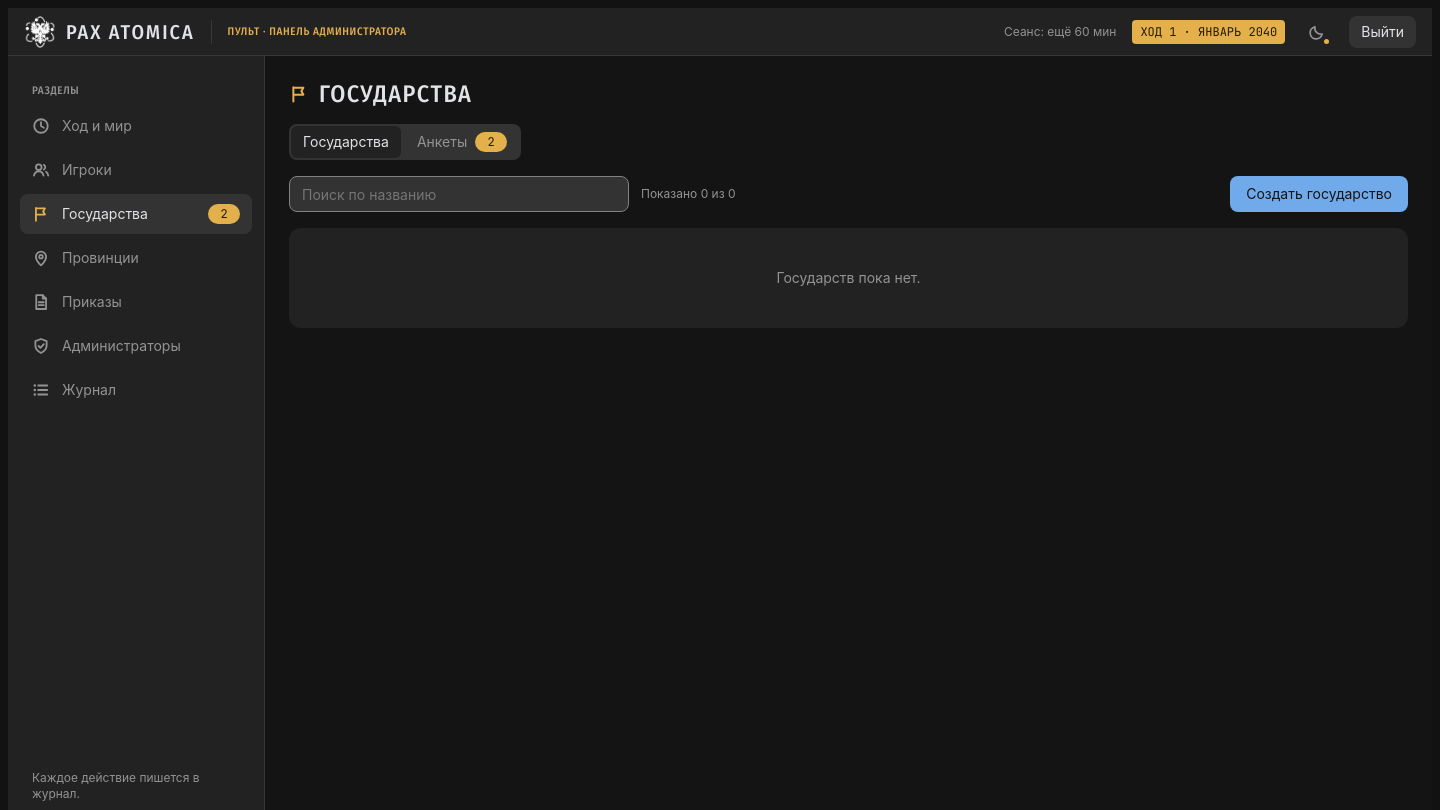
Test: the «Анкеты» tab lists the review queue of mockup 22
Expected: the text with test id "nav-badge-nations" reads "2", [220, 206, 228, 222]
Click the button with test id "tab-applications" at x=462, y=142, box [405, 126, 519, 158]
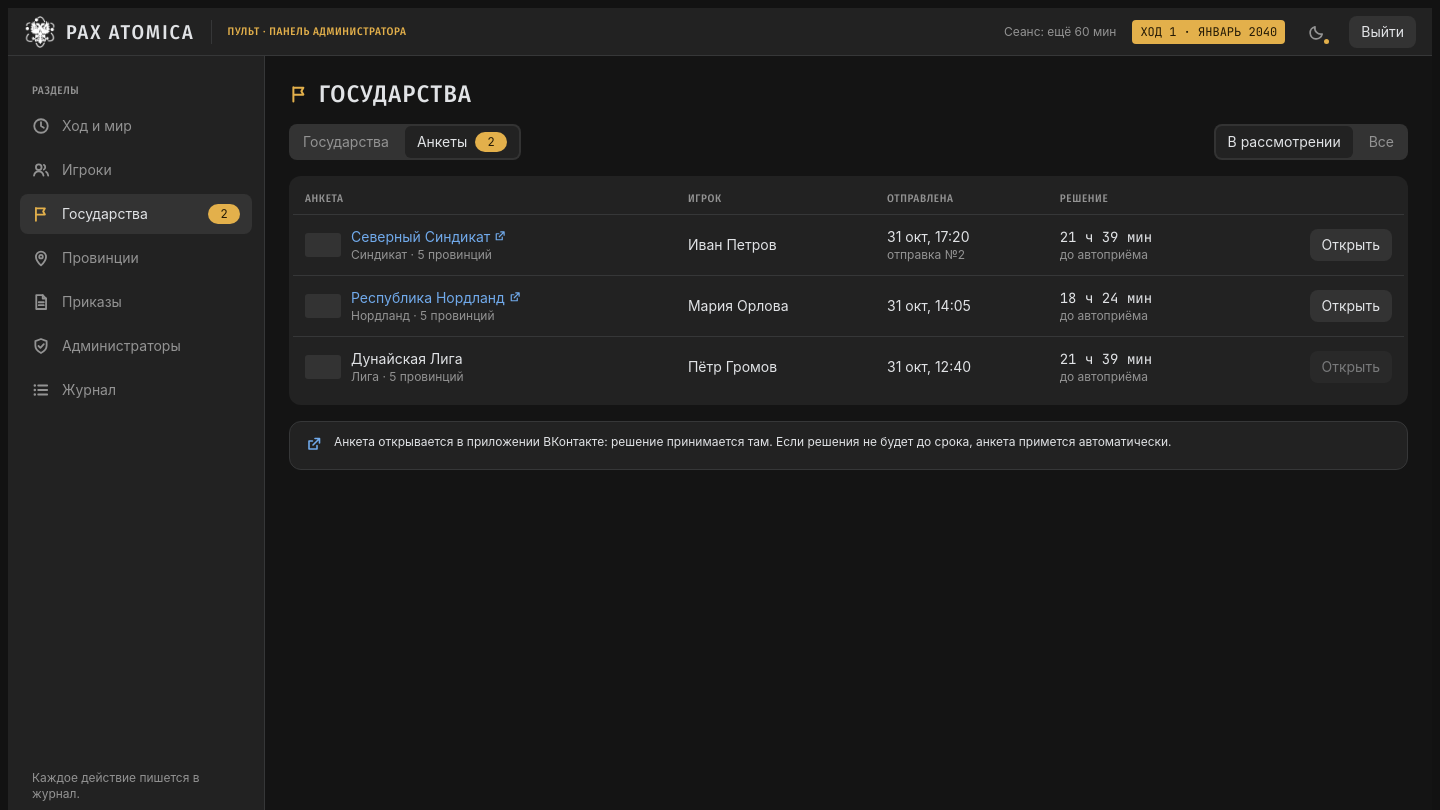
Expected: the row with test id "application-row-app-1" shows "Северный Синдикат", [351, 228, 506, 245]
Expected: the row with test id "application-row-app-1" shows "Синдикат · 5 провинций", [293, 214, 1404, 276]
Expected: the row with test id "application-row-app-1" shows "Иван Петров", [688, 236, 777, 253]
